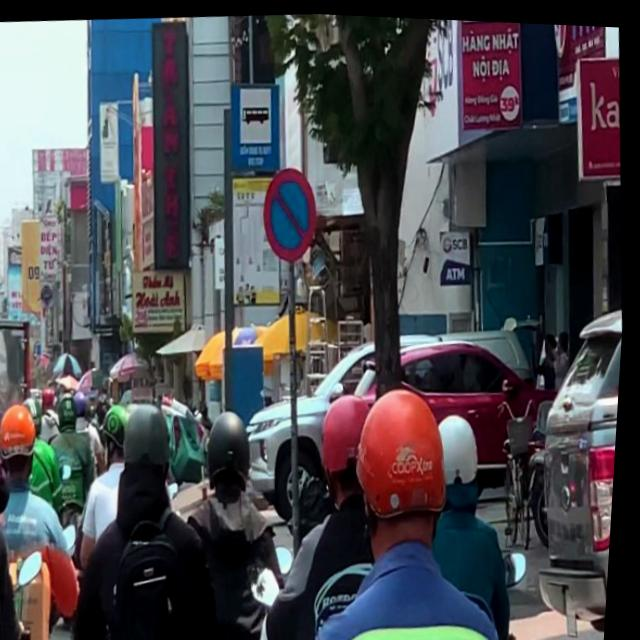Ben xe buyt: (233, 79, 281, 168)
Cam do xe: (260, 161, 323, 262)
